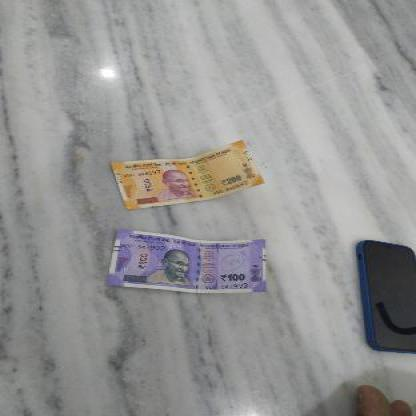New100Front: (110, 226, 270, 292)
New200Front: (104, 138, 260, 204)
